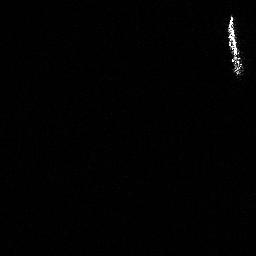ship: (224, 13, 247, 77)
